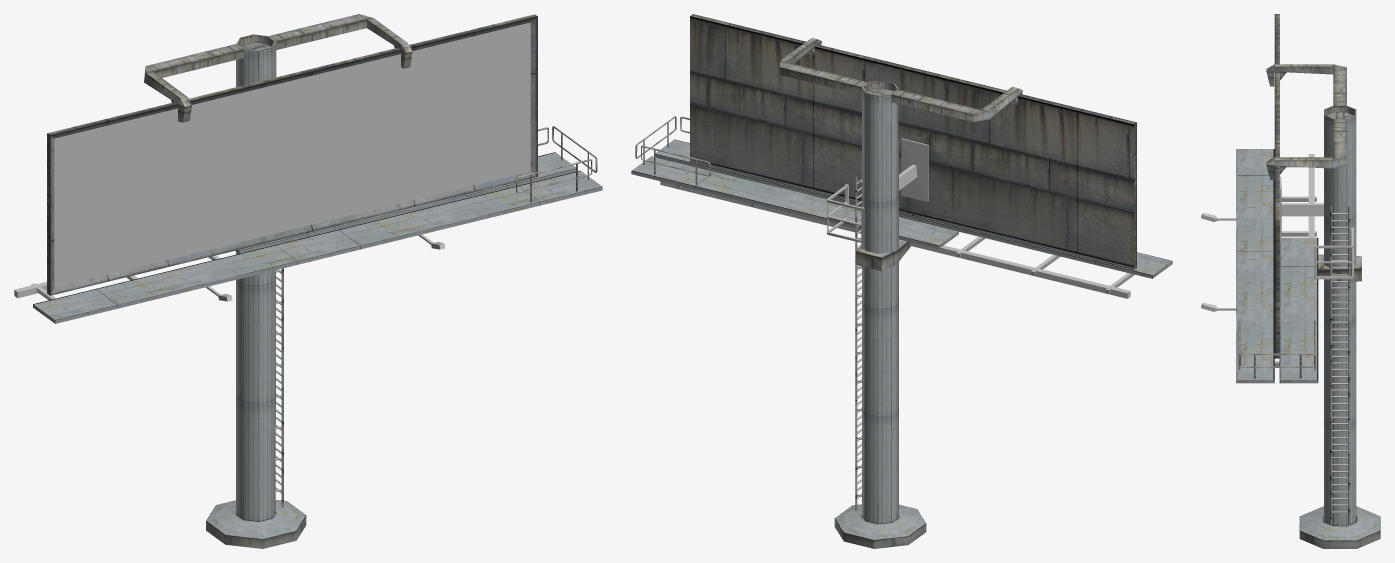
Rendered from Model_BillBoard_06.fbx.
The picture shows the model from 3 angles, left to right: view 1: azimuth 30°, elevation 25°; view 2: azimuth 150°, elevation 25°; view 3: azimuth 270°, elevation 25°; orthographic projection. The views are drawn at different scales.
Parts seen in each view (by area): view 1: BillBoard_06; view 2: BillBoard_06; view 3: BillBoard_06.
Boxes of the visible parts, <box> form: BillBoard_06: <box>14,14,602,548</box>; BillBoard_06: <box>631,14,1172,548</box>; BillBoard_06: <box>1201,14,1380,548</box>.
Bounding box in the file's own units: 1828 × 1547 × 599.
